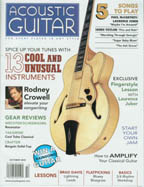guitar: (48, 1, 121, 154)
